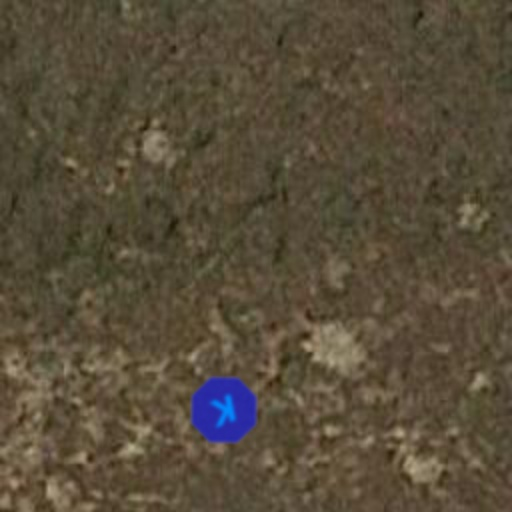octagon: (176, 362, 272, 458)
